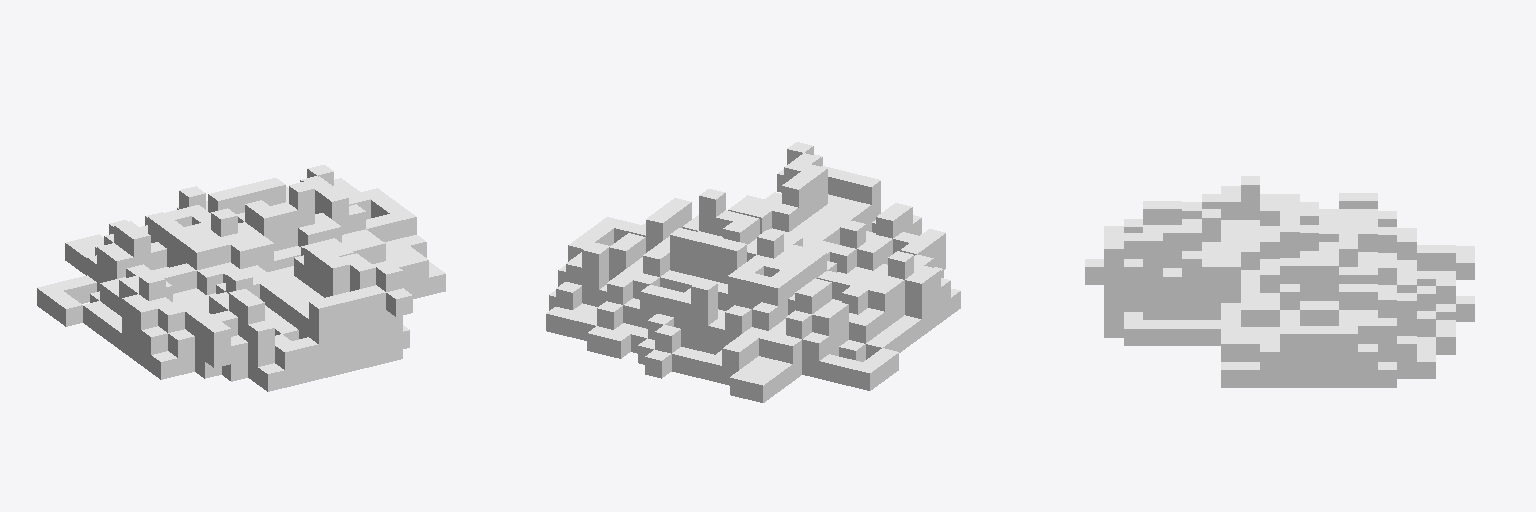
The model's file is nautilus.obj.
The picture shows the model from 3 angles: view 1: azimuth 30°, elevation 25°; view 2: azimuth 150°, elevation 25°; view 3: azimuth 270°, elevation 25°; orthographic projection.
Parts seen in each view (by area): view 1: object 1; view 2: object 1; view 3: object 1.
Part boxes in pixels (x1,y1,x2,y2): object 1: (37,165,445,391); object 1: (546,142,960,402); object 1: (1085,176,1474,387).
Bounding box in the file's own units: 1.9 × 0.6 × 2.